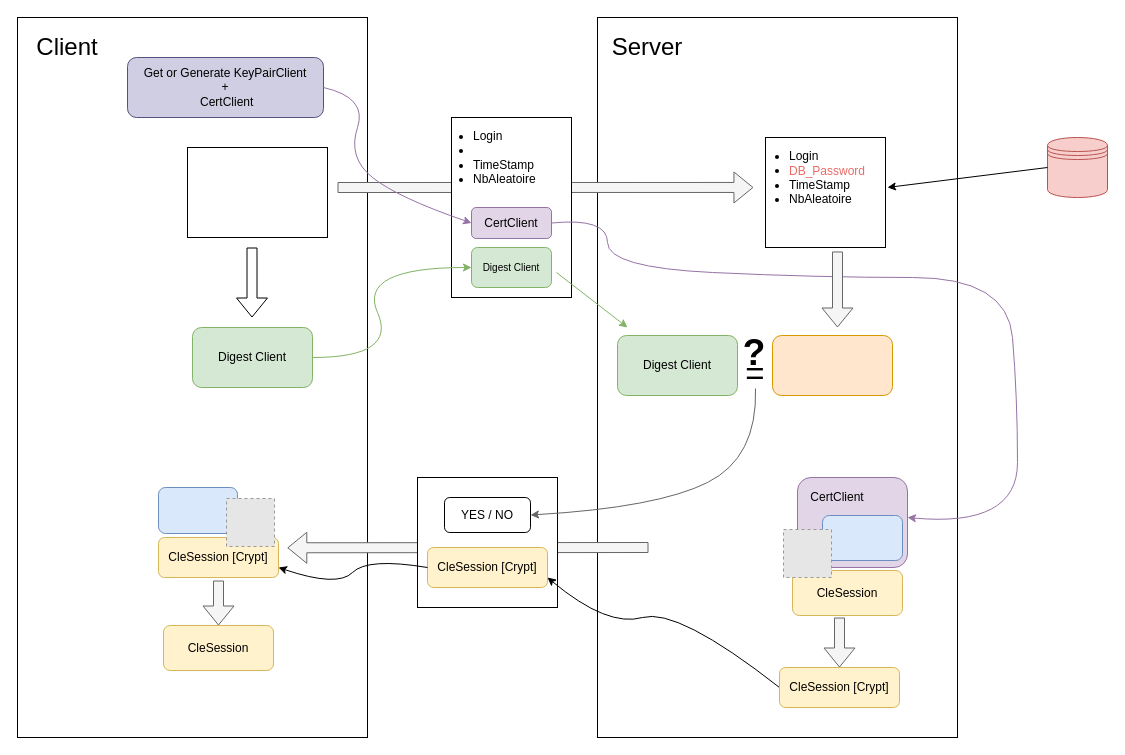
This 1125x755 diagram has some shape labels left out. Grey dashed boxes stand in for pictures. Here are the shapes that lost their labels. From the top down, the centre of each, then its label:
(x=1077, y=167): DB
(x=257, y=192): Login Password Client TimeStamp NbAleatoire
(x=832, y=365): Digest Server
(x=198, y=510): PrivateKey Client
(x=862, y=537): PublicKey Client
